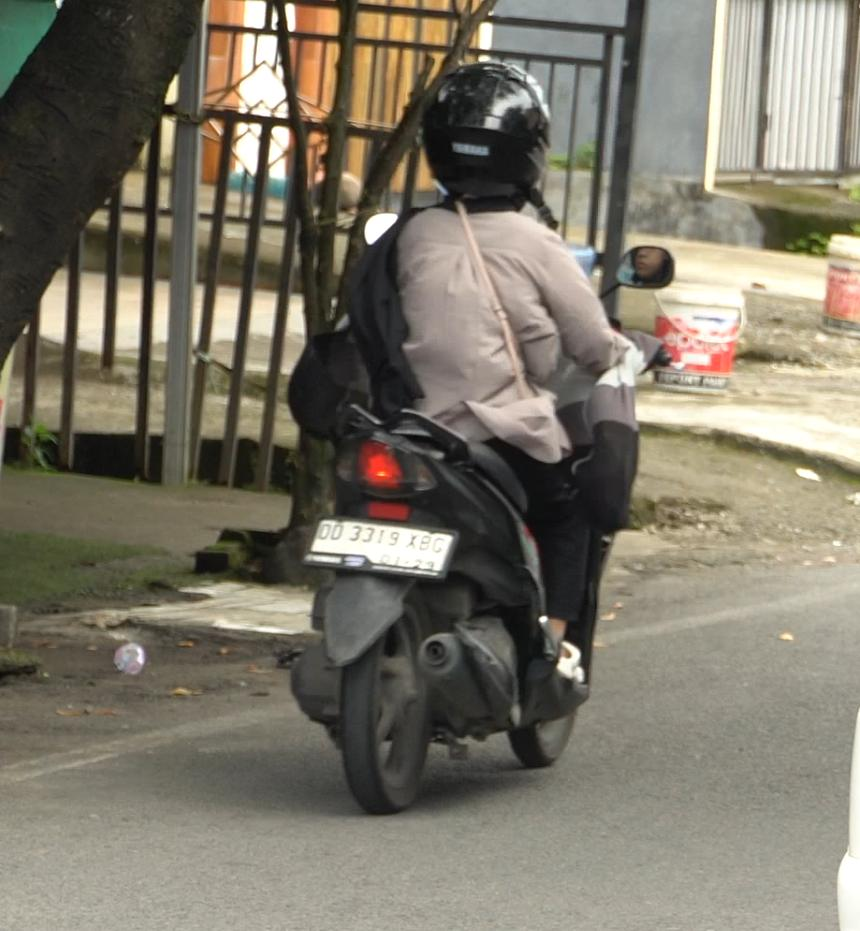number-plate: (300, 512, 460, 583)
